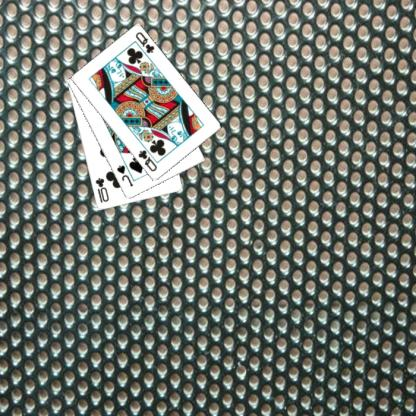10C: (94, 176, 112, 204)
JS: (116, 162, 136, 188)
QC: (137, 147, 160, 173), (134, 30, 158, 54)
